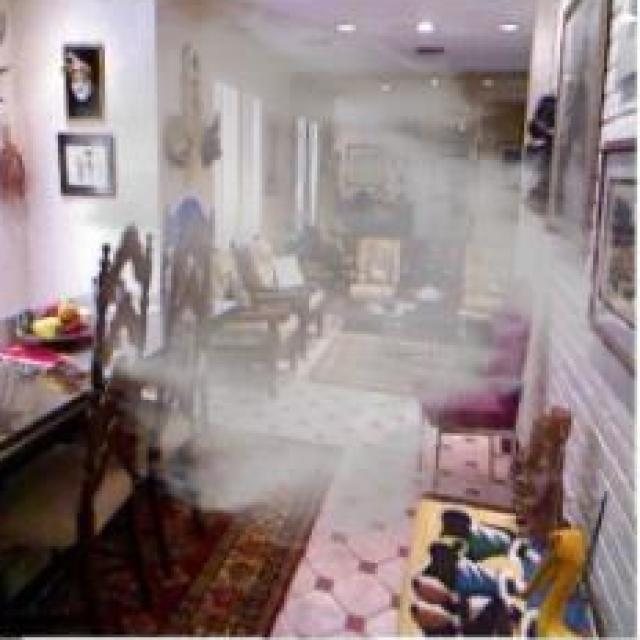fire: (52, 0, 640, 557)
